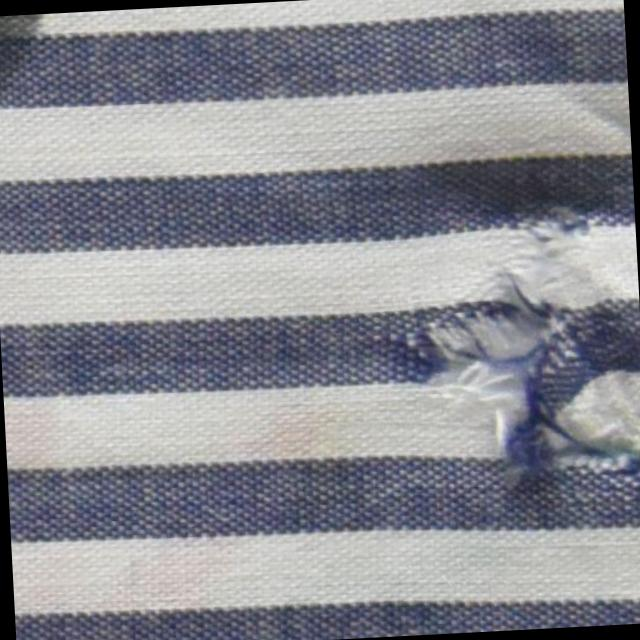cut: (397, 206, 640, 498)
